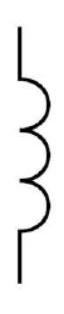inductor: (6, 60, 57, 248)
